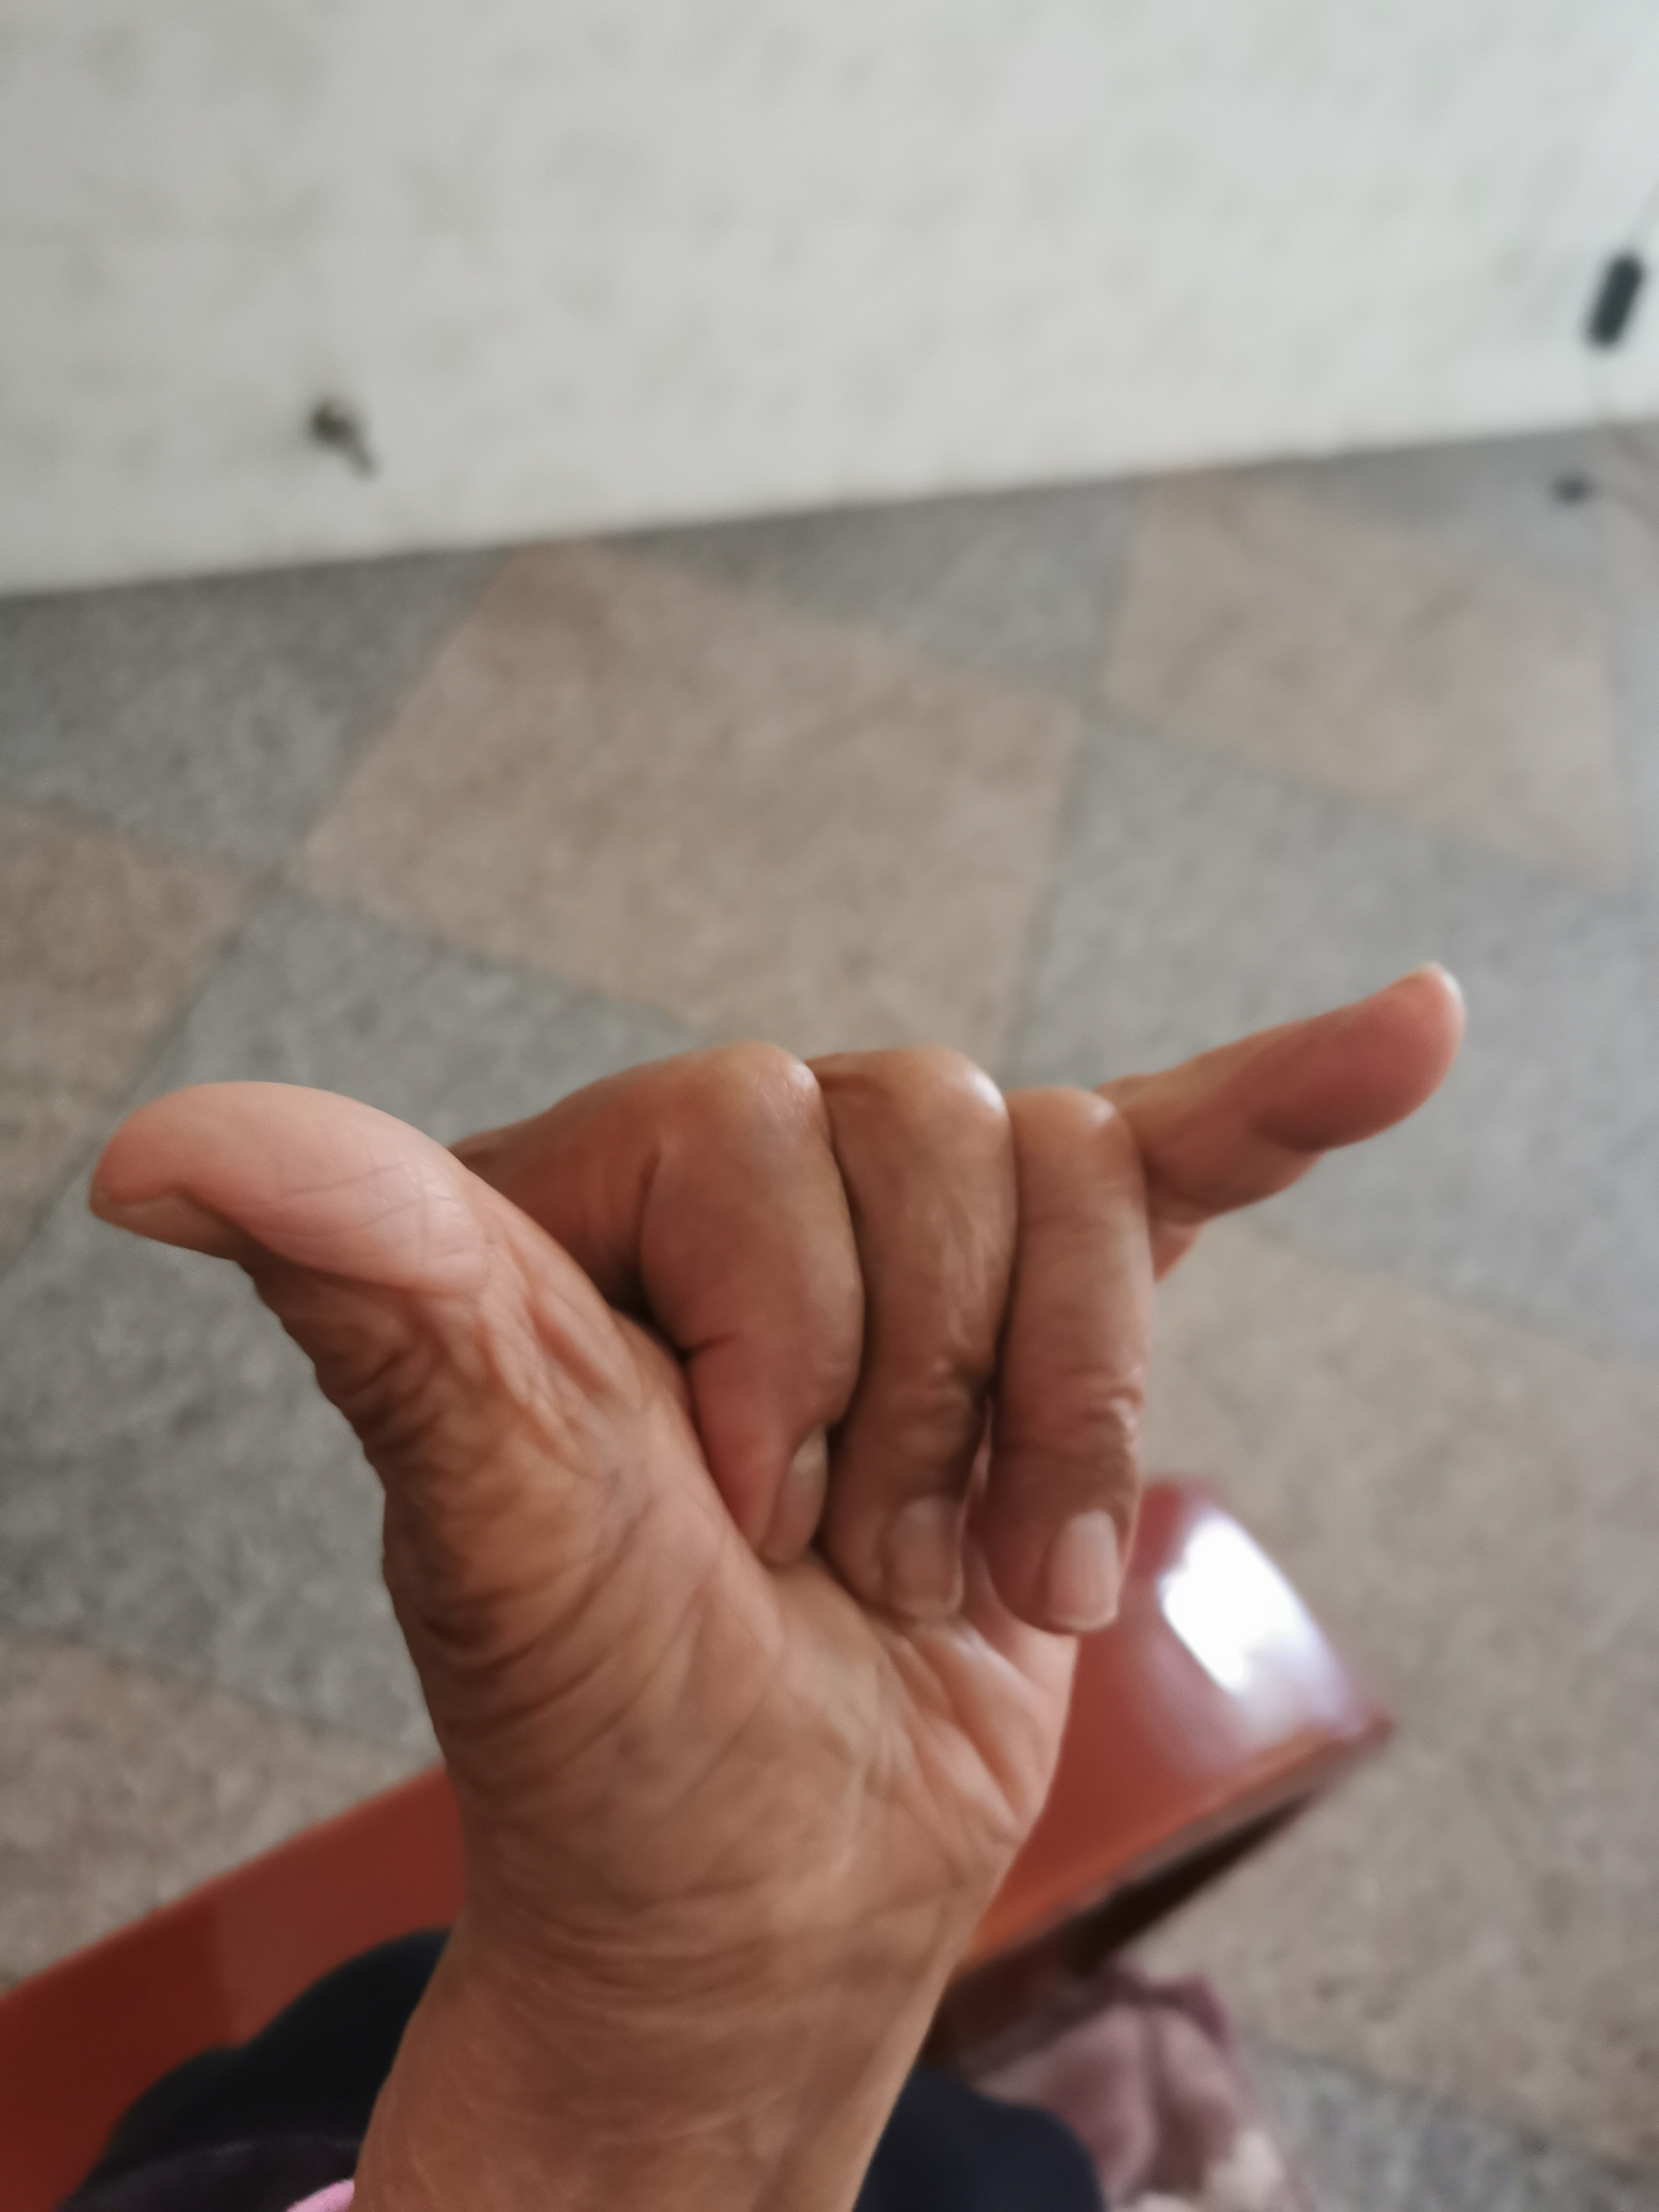clockwise: (96, 951, 1493, 1916)
